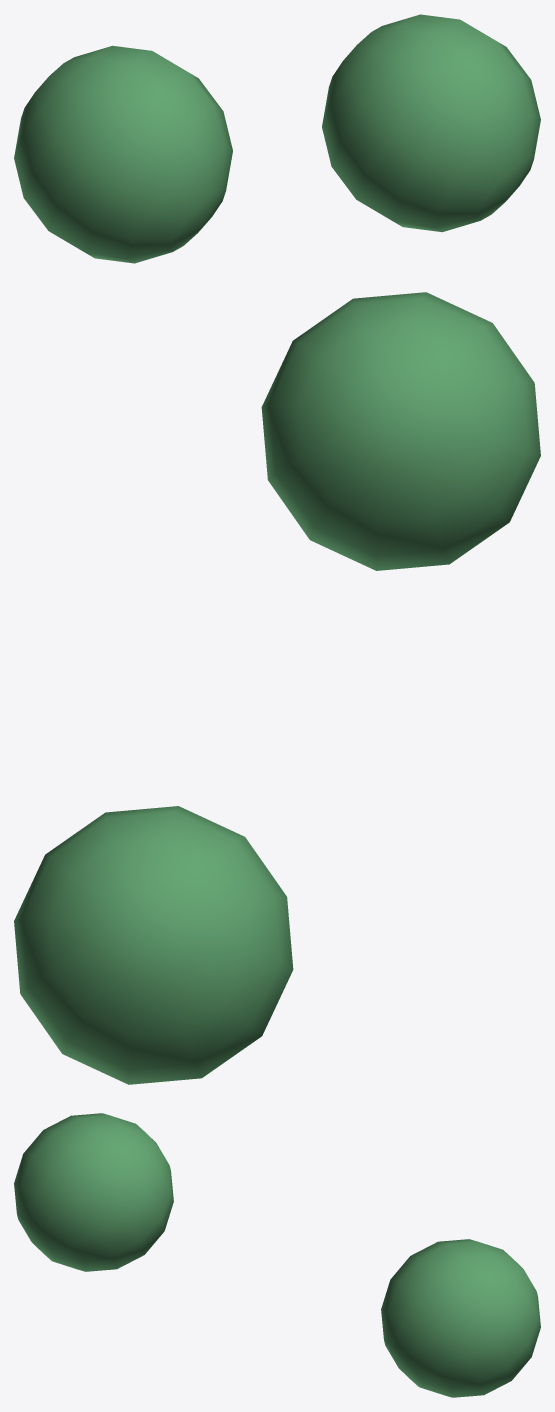
3 views of the same model, one above another, from view 1: azimuth 30°, elevation 25°; view 2: azimuth 150°, elevation 25°; view 3: azimuth 270°, elevation 25° (orthographic). The views are drawn at different scales.
Parts seen in each view (by area): view 1: 左侧腋外侧淋巴结; view 2: 左侧腋外侧淋巴结; view 3: 左侧腋外侧淋巴结.
Part boxes in pixels (<box>): 左侧腋外侧淋巴结: <box>14,14,540,263</box>; 左侧腋外侧淋巴结: <box>14,292,540,1084</box>; 左侧腋外侧淋巴结: <box>14,1113,540,1397</box>.
Bounding box in the file's own units: 0.00499 × 0.00762 × 0.0125.
